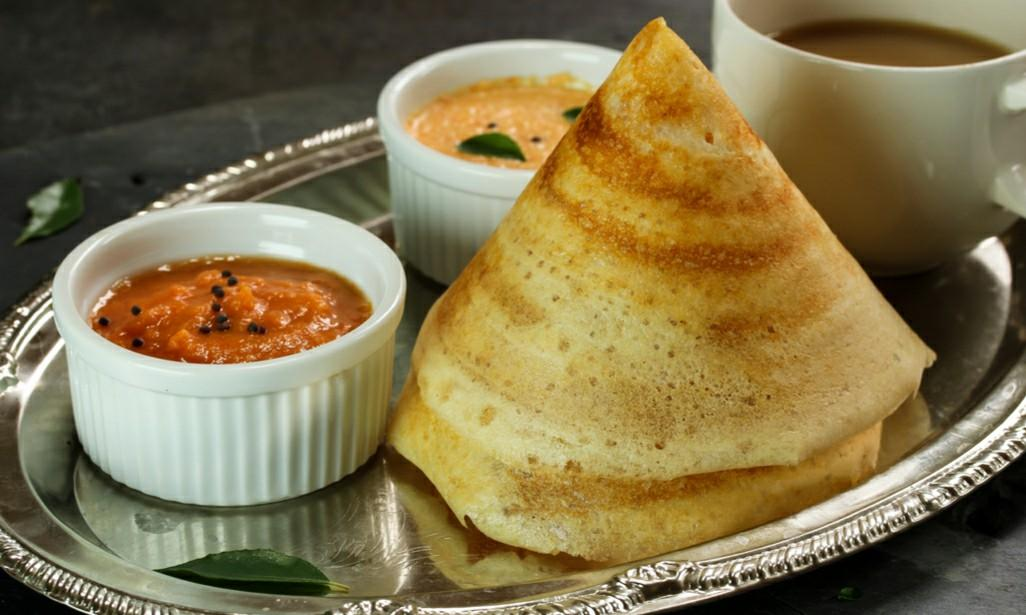Dosa: (382, 16, 938, 562)
